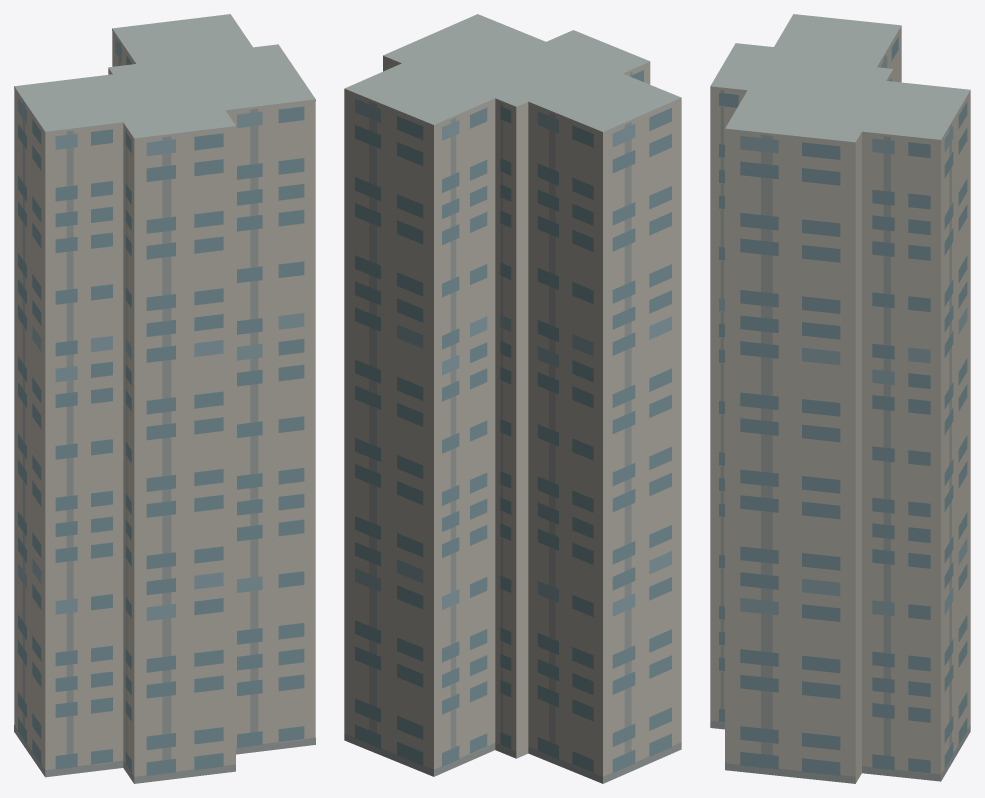
Rendered from residential-2a1ef449-6c7a-47c2-ab8a-0a5106a0a338.glb.
The picture shows the model from 3 angles, left to right: view 1: azimuth 30°, elevation 25°; view 2: azimuth 150°, elevation 25°; view 3: azimuth 270°, elevation 25°; orthographic projection.
Visible parts, largest first — view 1: residential-2a1ef449-6c7a-47c2-ab8a-0a5106a0a338.tmp; view 2: residential-2a1ef449-6c7a-47c2-ab8a-0a5106a0a338.tmp; view 3: residential-2a1ef449-6c7a-47c2-ab8a-0a5106a0a338.tmp.
Part boxes in pixels (left/top/right/bottom): residential-2a1ef449-6c7a-47c2-ab8a-0a5106a0a338.tmp: left=14, top=14, right=315, bottom=783; residential-2a1ef449-6c7a-47c2-ab8a-0a5106a0a338.tmp: left=344, top=14, right=681, bottom=783; residential-2a1ef449-6c7a-47c2-ab8a-0a5106a0a338.tmp: left=710, top=14, right=970, bottom=783.
Size of the model in its own units: 29.18 by 68 by 25.03.
